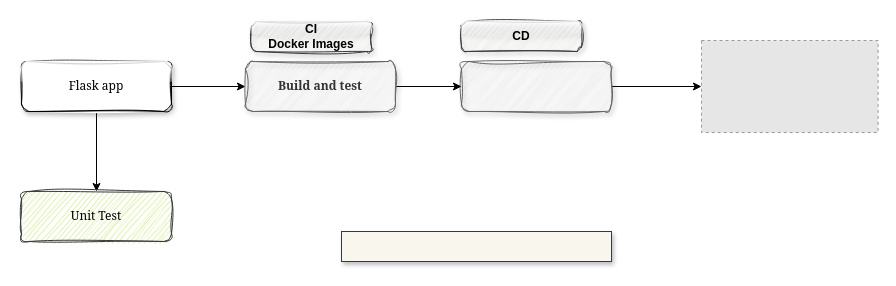
The diagram is 896 pixels wide and 286 high, and some of its shapes have lost their labels. Grey dashed boxes stand in for pictures. Here are the shapes that lost their labels. From the top down, the centre of each, then its label:
At [537,87]: "Deploy".
At [477,247]: "Github Action Workflow".
